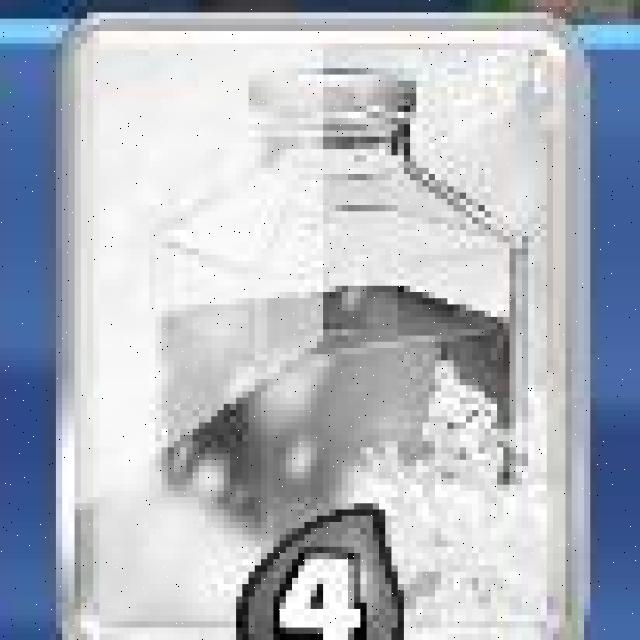Freeze: (59, 12, 590, 640)
